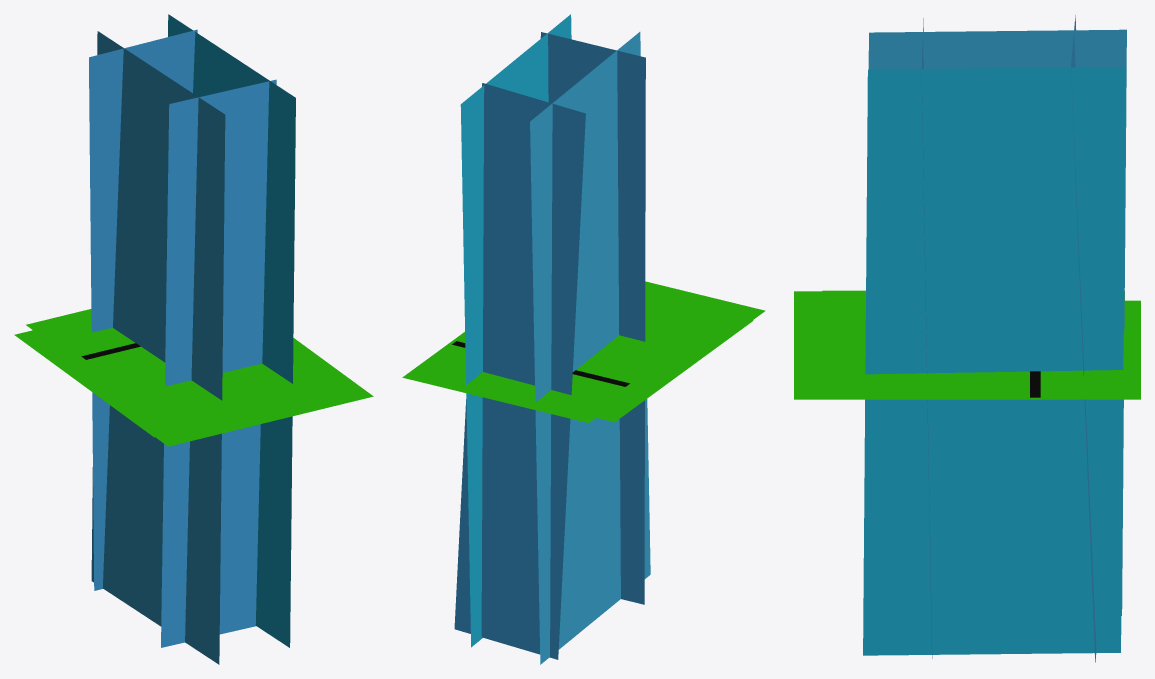
Rendered from House.Blender.glb.
3 renders of one model, left to right at view 1: azimuth 30°, elevation 25°; view 2: azimuth 150°, elevation 25°; view 3: azimuth 270°, elevation 25°, orthographic. The views are drawn at different scales.
Visible parts, largest first — view 1: Plane.026, Plane.023, Plane.025, Plane.024, Plane.031, Plane.030, Plane, Plane.029; view 2: Plane.024, Plane.026, Plane.023, Plane.025, Plane.029, Plane.031, Plane, Plane.030; view 3: Plane.025, Plane.026, Plane, Plane.029, Plane.031, Plane.024, Plane.030, Plane.023.
Part boxes in pixels (x1=…): Plane.026: x1=91, y1=31, x2=225, y2=664; Plane.023: x1=161, y1=79, x2=276, y2=647; Plane.025: x1=168, y1=14, x2=295, y2=647; Plane.024: x1=89, y1=29, x2=197, y2=590; Plane.031: x1=14, y1=316, x2=274, y2=437; Plane.030: x1=155, y1=355, x2=355, y2=446; Plane: x1=26, y1=309, x2=352, y2=385; Plane.029: x1=46, y1=329, x2=373, y2=440; Plane.024: x1=454, y1=83, x2=585, y2=659; Plane.026: x1=530, y1=32, x2=650, y2=664; Plane.023: x1=540, y1=32, x2=645, y2=604; Plane.025: x1=460, y1=14, x2=571, y2=647; Plane.029: x1=527, y1=281, x2=746, y2=407; Plane.031: x1=428, y1=320, x2=753, y2=422; Plane: x1=402, y1=301, x2=726, y2=422; Plane.030: x1=645, y1=282, x2=765, y2=355; Plane.025: x1=863, y1=66, x2=1125, y2=655; Plane.026: x1=868, y1=29, x2=1126, y2=615; Plane: x1=838, y1=300, x2=1140, y2=399; Plane.029: x1=794, y1=300, x2=1096, y2=399; Plane.031: x1=822, y1=290, x2=1124, y2=389; Plane.024: x1=1071, y1=15, x2=1096, y2=662; Plane.030: x1=794, y1=291, x2=865, y2=300; Plane.023: x1=921, y1=18, x2=932, y2=658.
Bounding box in the file's own units: 267 × 677 × 359.
